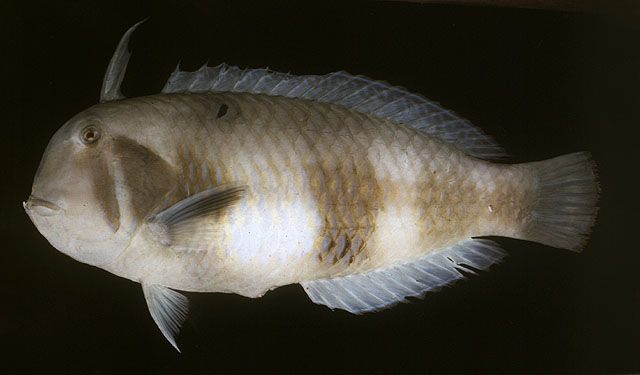fish: (20, 11, 601, 354)
